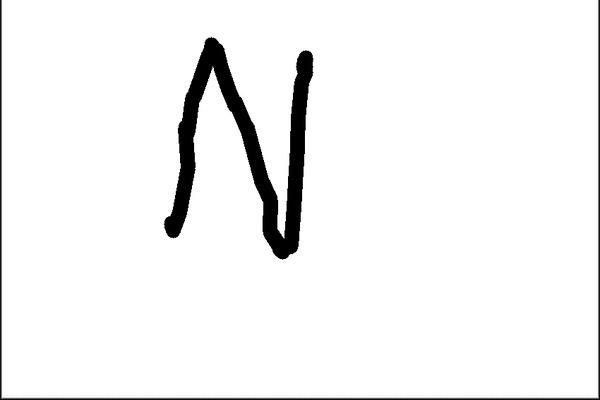N: (160, 30, 318, 261)
